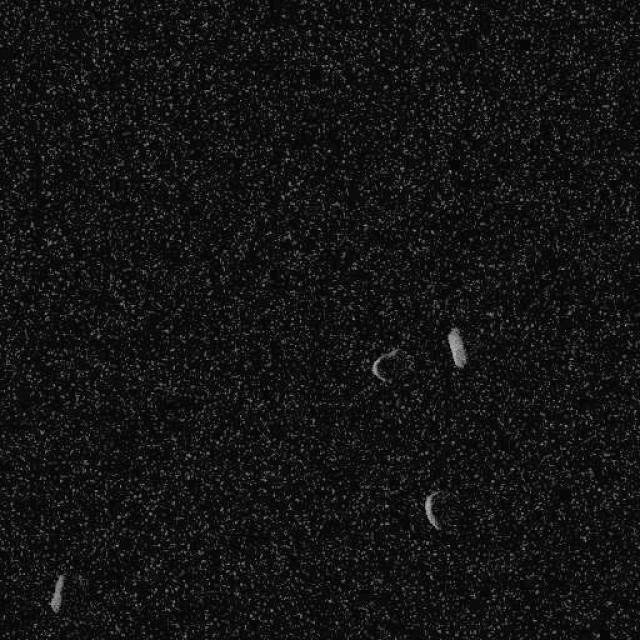D2: (370, 346, 400, 385), (447, 325, 468, 369), (422, 489, 442, 531), (47, 572, 65, 612)
